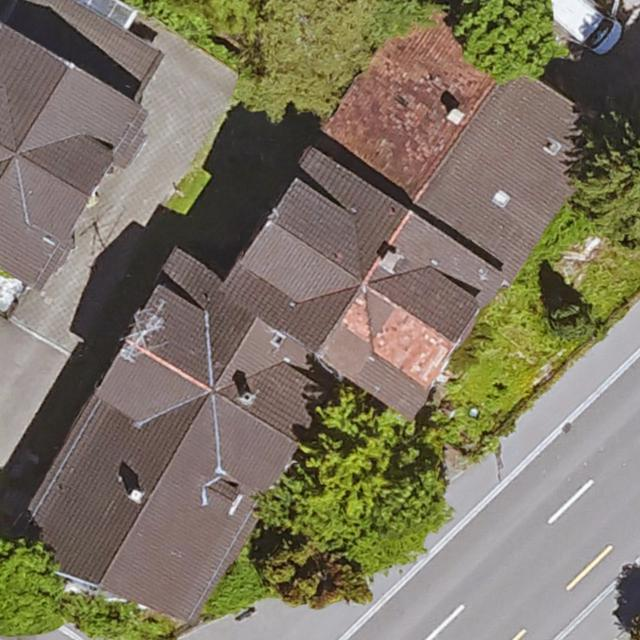tree: (273, 401, 442, 557), (575, 118, 640, 249), (453, 0, 554, 78), (261, 536, 368, 605), (0, 537, 64, 634)
